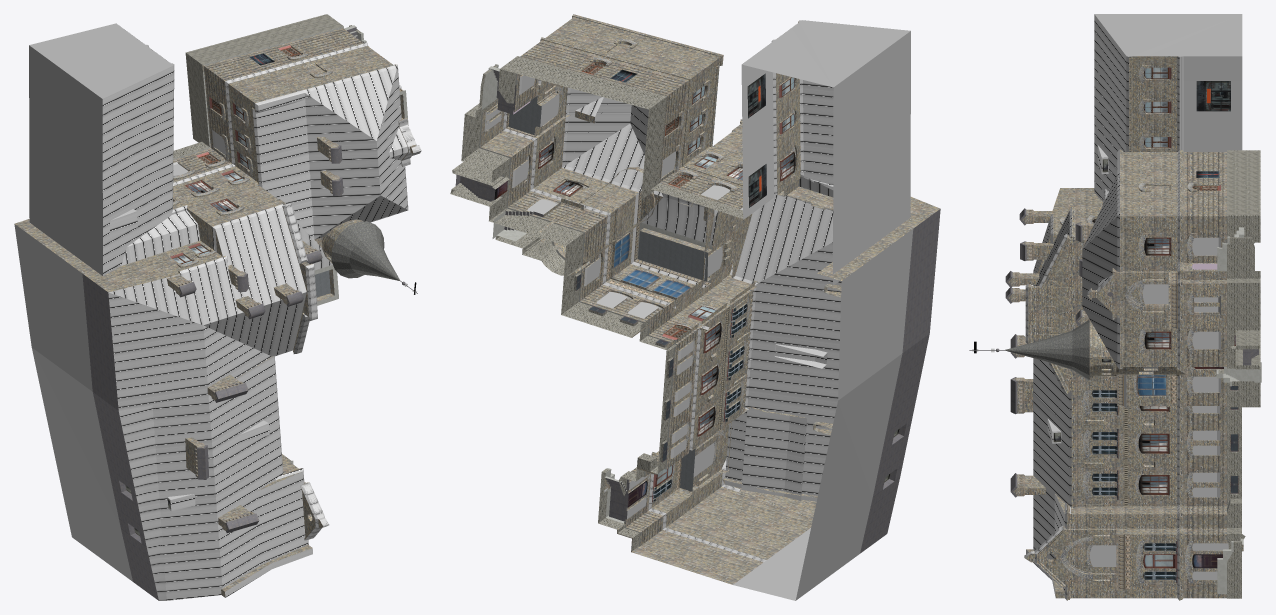
Rendered from Uus_19.obj.
3 renders of one model, left to right at view 1: azimuth 30°, elevation 25°; view 2: azimuth 150°, elevation 25°; view 3: azimuth 270°, elevation 25°, orthographic. The views are drawn at different scales.
Visible parts, largest first — view 1: Uus_19, xxx; view 2: Uus_19, xxx; view 3: Uus_19, xxx.
Part boxes in pixels (box(x1,y1,x2,y2)): Uus_19: box(15, 14, 421, 600); xxx: box(14, 23, 174, 581); Uus_19: box(450, 14, 940, 584); xxx: box(733, 20, 913, 600); Uus_19: box(969, 14, 1261, 600); xxx: box(1094, 14, 1242, 56).
Bounding box in the file's own units: 35.4 × 46.28 × 24.37.
